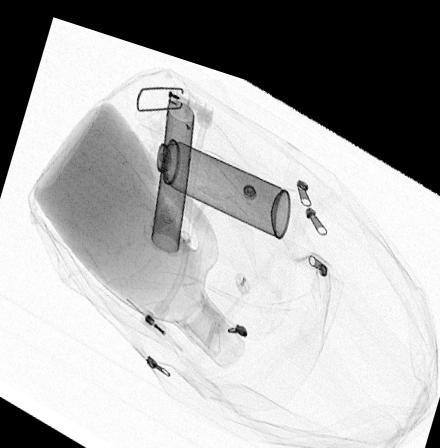Sprayer: (124, 111, 291, 222)
